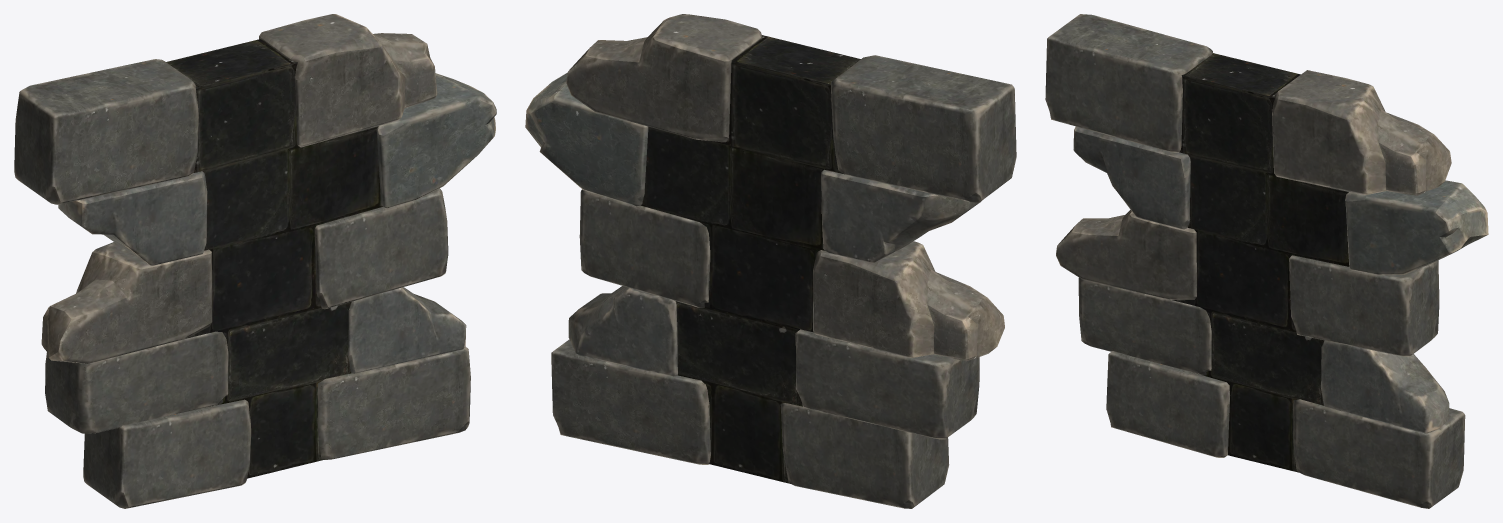
3 views of the same model, side by side, from view 1: azimuth 30°, elevation 25°; view 2: azimuth 150°, elevation 25°; view 3: azimuth 330°, elevation 25° (orthographic). The views are drawn at different scales.
Parts seen in each view (by area): view 1: SM_SaradominTemple_Wall_Rubble_01v1_LOD0; view 2: SM_SaradominTemple_Wall_Rubble_01v1_LOD0; view 3: SM_SaradominTemple_Wall_Rubble_01v1_LOD0.
Boxes of the visible parts, x1,y1,x2,y2 form: SM_SaradominTemple_Wall_Rubble_01v1_LOD0: (14,14,496,508); SM_SaradominTemple_Wall_Rubble_01v1_LOD0: (525,14,1016,508); SM_SaradominTemple_Wall_Rubble_01v1_LOD0: (1045,14,1488,508).
Bounding box in the file's own units: 3.95 × 3.47 × 0.6343.
2 materials, 2 textured.
